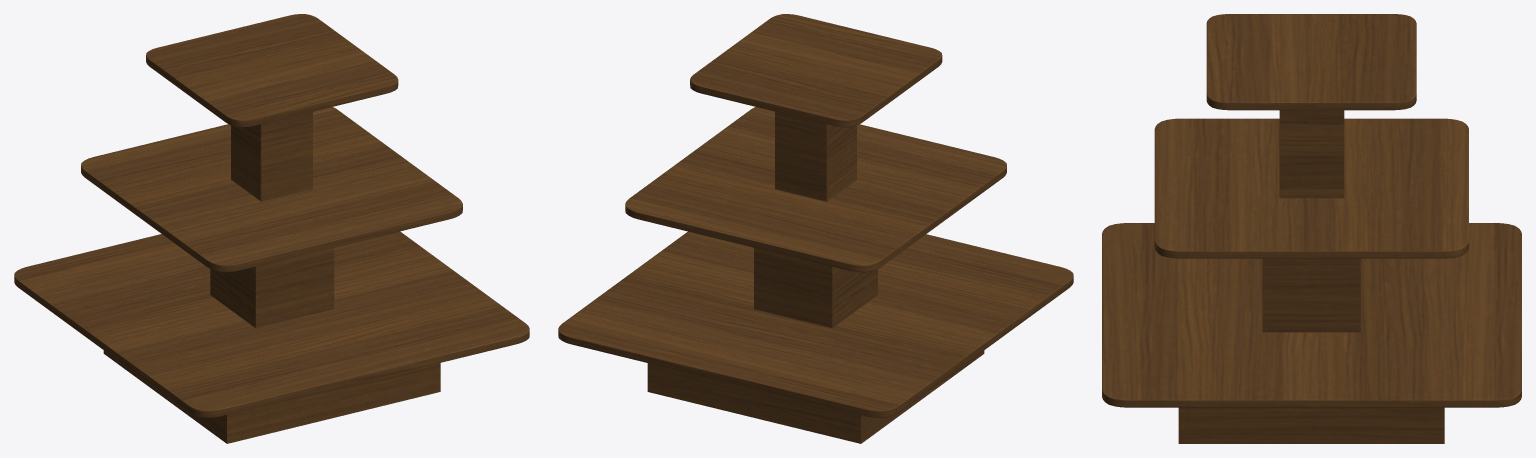
File: threetiersquaretable.fbx
3 views of the same model, side by side, from view 1: azimuth 30°, elevation 25°; view 2: azimuth 150°, elevation 25°; view 3: azimuth 270°, elevation 25° (orthographic). The views are drawn at different scales.
Visible parts, largest first — view 1: ttst_bottom_table, ttst_mid_table, ttst_top_table, ttst_base, ttst_mid_support, ttst_top_support; view 2: ttst_bottom_table, ttst_mid_table, ttst_top_table, ttst_base, ttst_mid_support, ttst_top_support; view 3: ttst_bottom_table, ttst_mid_table, ttst_top_table, ttst_base, ttst_mid_support, ttst_top_support.
Part boxes in pixels (box(x1,y1,x2,y2)): ttst_bottom_table: box(14, 231, 529, 417); ttst_mid_table: box(81, 107, 462, 272); ttst_top_table: box(146, 14, 398, 127); ttst_base: box(103, 350, 440, 443); ttst_mid_support: box(210, 247, 334, 327); ttst_top_support: box(231, 111, 312, 201); ttst_bottom_table: box(558, 231, 1073, 417); ttst_mid_table: box(625, 107, 1006, 272); ttst_top_table: box(690, 14, 942, 127); ttst_base: box(647, 350, 984, 443); ttst_mid_support: box(754, 247, 877, 328); ttst_top_support: box(775, 111, 856, 201); ttst_bottom_table: box(1102, 223, 1521, 407); ttst_mid_table: box(1154, 118, 1468, 258); ttst_top_table: box(1206, 14, 1416, 110); ttst_base: box(1178, 407, 1444, 443); ttst_mid_support: box(1262, 258, 1360, 332); ttst_top_support: box(1279, 110, 1344, 198).
Size of the model in its own units: 122 by 106 by 122.
